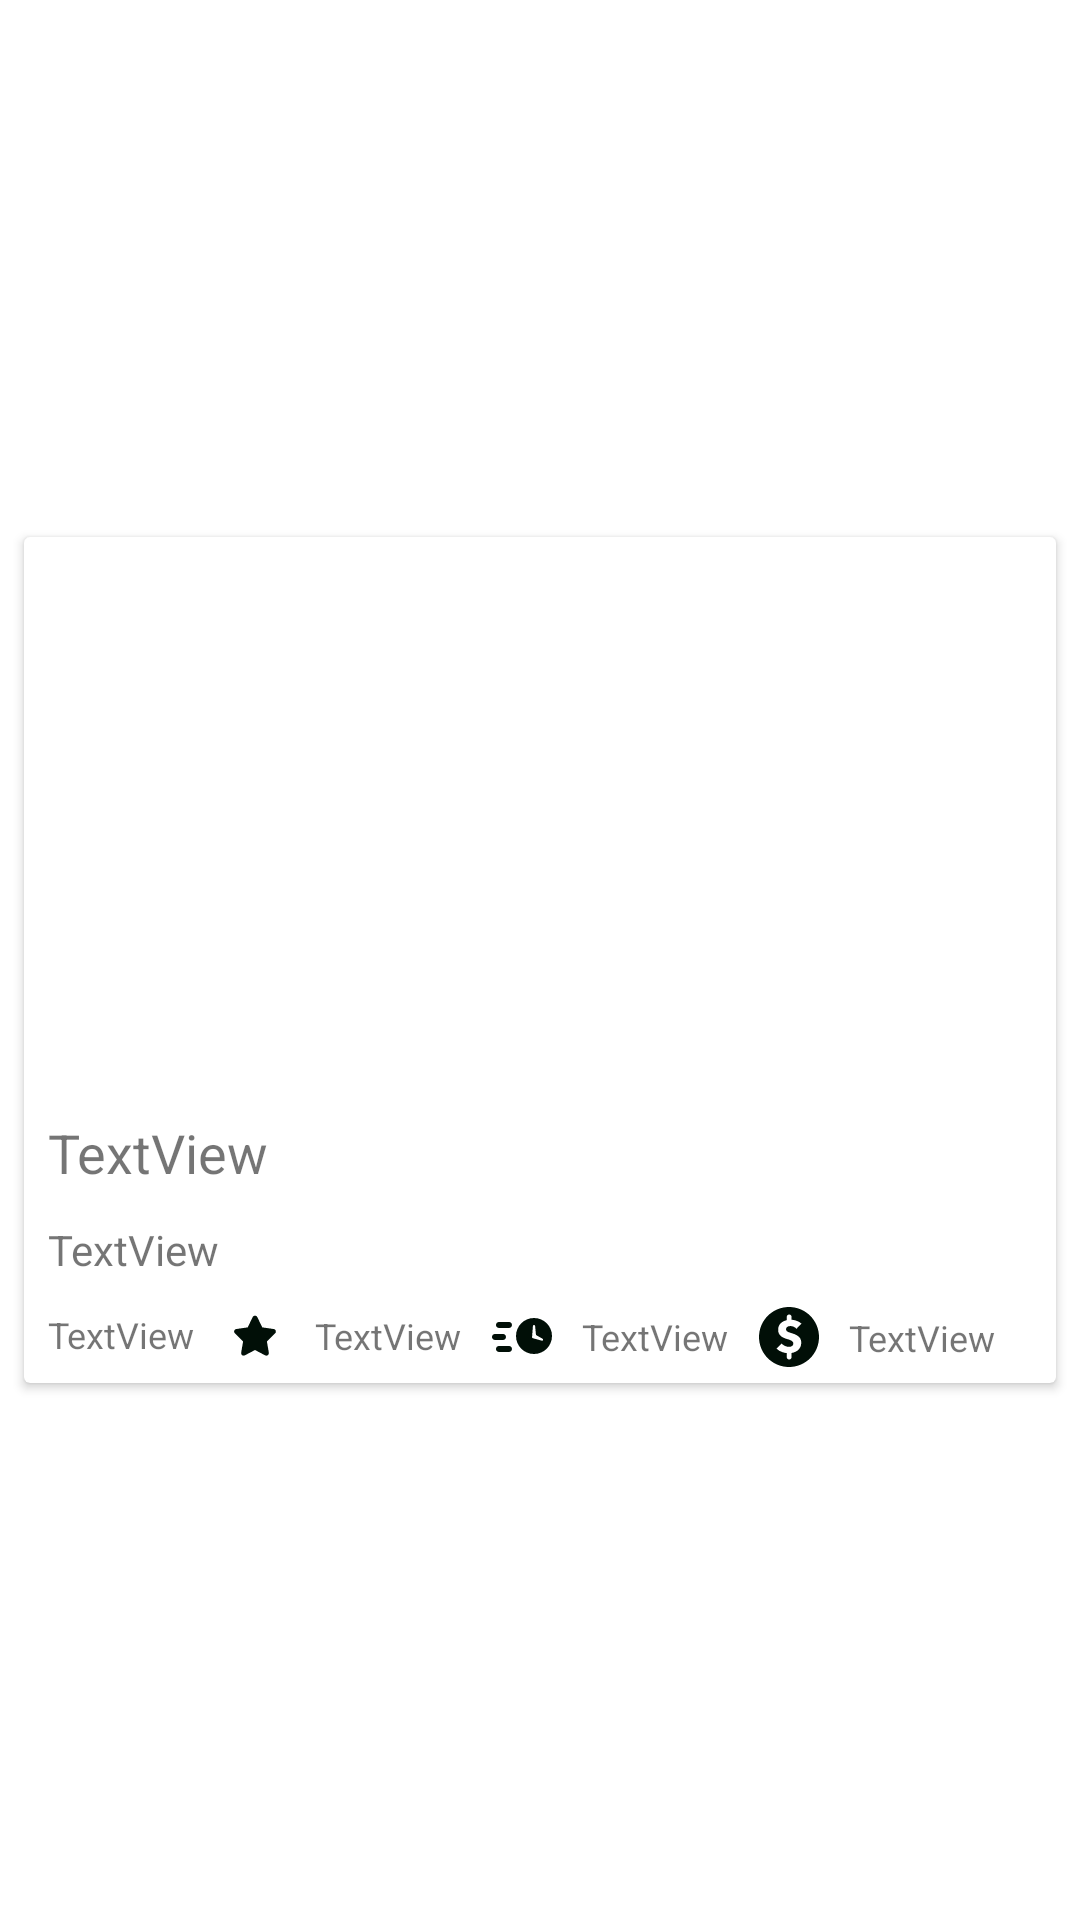

Named icons in this screenshot (1080w x 1920h) and their bounding boxes, (x1=x1, y1=y1, x2=x2, y2=y2):
dollar: (x1=759, y1=1307, x2=819, y2=1367)
fast delivery: (x1=492, y1=1318, x2=552, y2=1354)
rating: (x1=234, y1=1315, x2=276, y2=1356)
